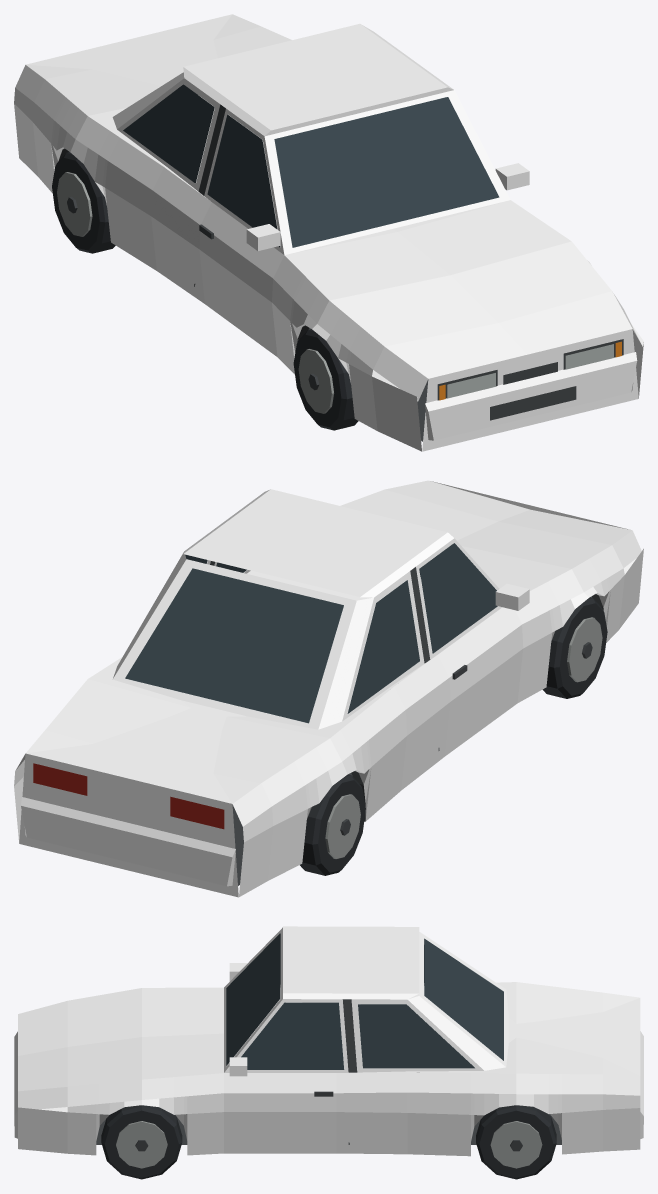
Rendered from hartwig_pirol.glb.
3 views of the same model, one above another, from view 1: azimuth 30°, elevation 25°; view 2: azimuth 150°, elevation 25°; view 3: azimuth 270°, elevation 25° (orthographic). The views are drawn at different scales.
Parts seen in each view (by area): view 1: hartwig_pirol; view 2: hartwig_pirol; view 3: hartwig_pirol.
Boxes of the visible parts, x1,y1,x2,y2 form: hartwig_pirol: [14, 14, 643, 451]; hartwig_pirol: [14, 480, 643, 897]; hartwig_pirol: [14, 926, 643, 1179].
Bounding box in the file's own units: 1.7 × 1.29 × 4.32.
Materials: 8 (1 with a texture image).
